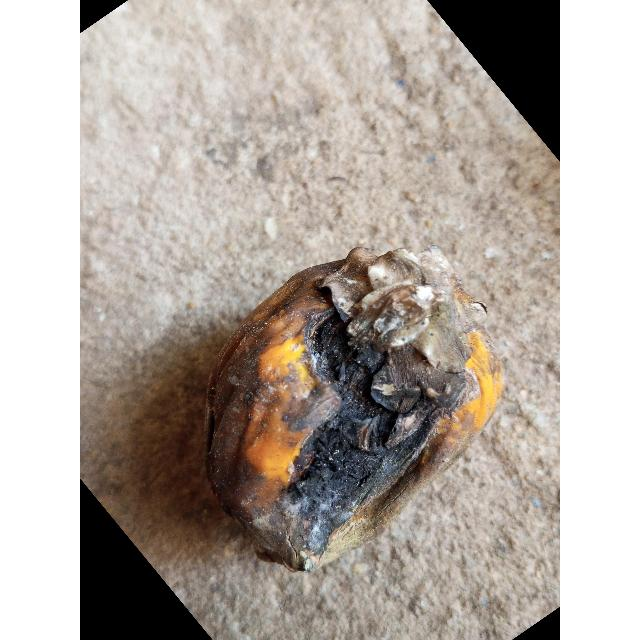damaged: (203, 248, 505, 573)
